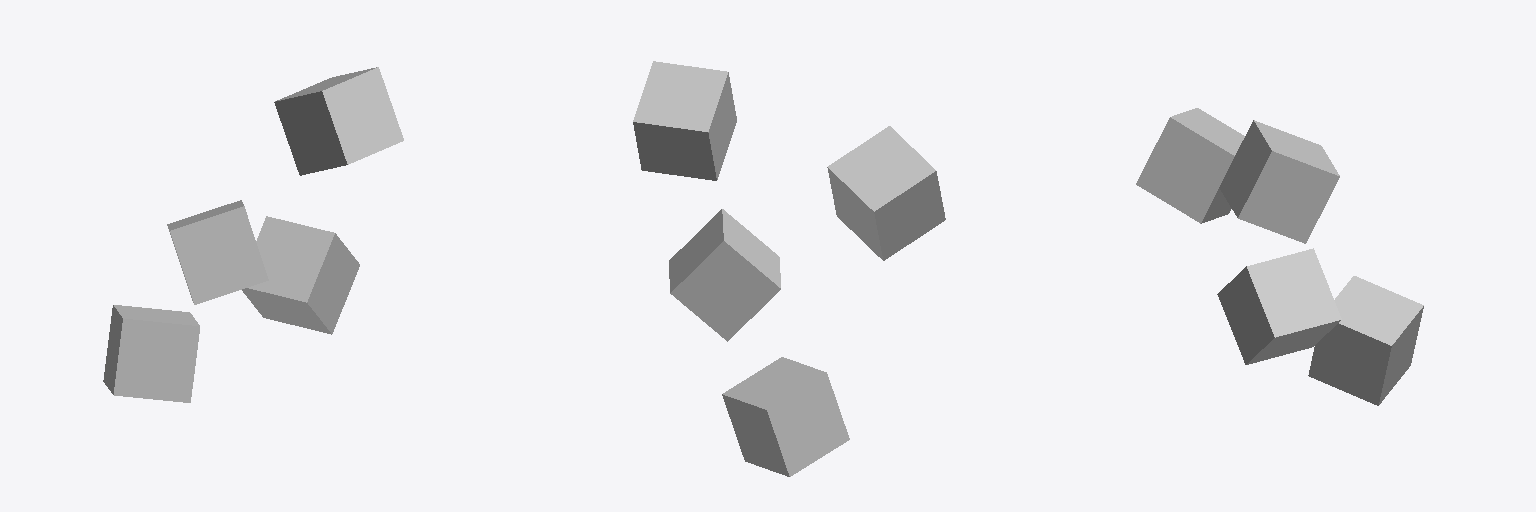
Rendered from cubes.obj.
3 views of the same model, side by side, from view 1: azimuth 30°, elevation 25°; view 2: azimuth 150°, elevation 25°; view 3: azimuth 270°, elevation 25° (orthographic).
Parts seen in each view (by area): view 1: Cube.003, Cube, Cube.001, Cube.002; view 2: Cube.001, Cube.002, Cube.003, Cube; view 3: Cube, Cube.003, Cube.001, Cube.002.
Part boxes in pixels (x1,y1,x2,y2): Cube.003: (274, 67, 403, 175); Cube: (242, 216, 359, 334); Cube.001: (103, 305, 199, 402); Cube.002: (167, 200, 268, 304); Cube.001: (722, 357, 849, 476); Cube.002: (827, 126, 945, 260); Cube.003: (633, 61, 736, 180); Cube: (669, 209, 780, 341); Cube: (1217, 248, 1341, 364); Cube.003: (1219, 120, 1339, 243); Cube.001: (1308, 276, 1423, 405); Cube.002: (1136, 108, 1244, 223).
Bounding box in the file's own units: 7.48 × 9.15 × 7.34.